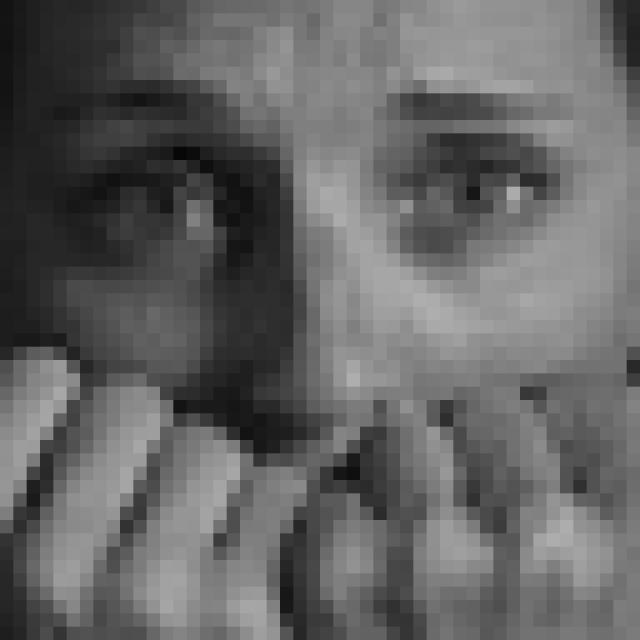fear: (42, 76, 595, 597)
